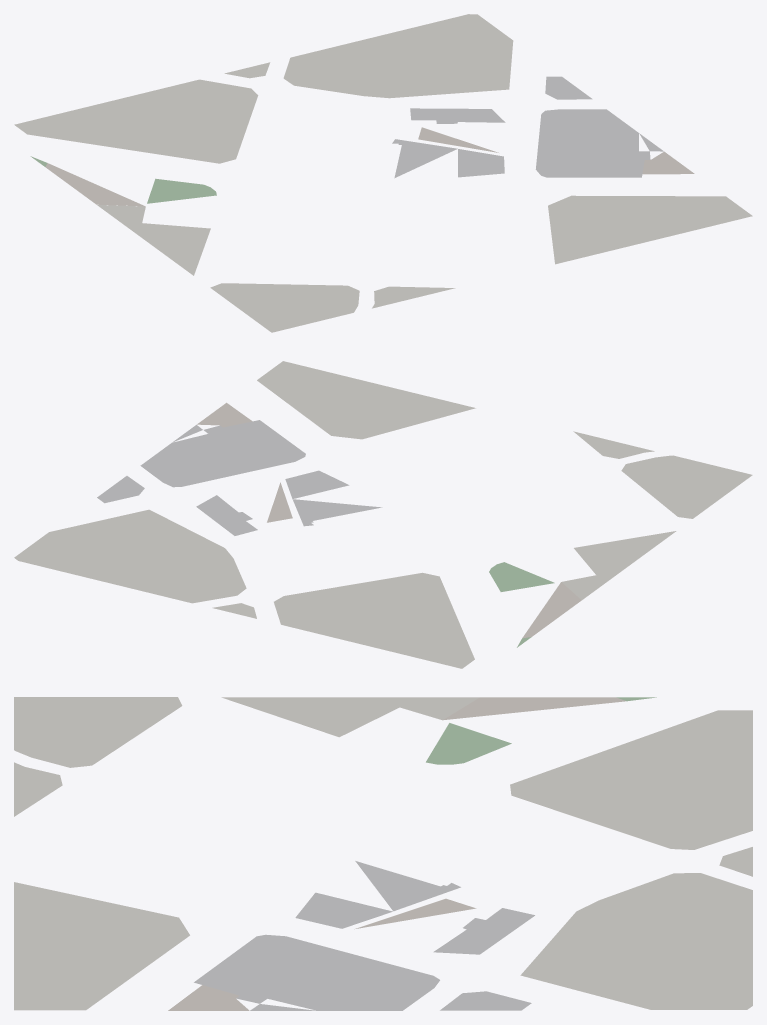
The model's file is 107_114_mid.glb.
The picture shows the model from 3 angles, top to bottom: view 1: azimuth 30°, elevation 25°; view 2: azimuth 150°, elevation 25°; view 3: azimuth 270°, elevation 25°; orthographic projection. The views are drawn at different scales.
Bounding box in the file's own units: 500 × 1.03 × 500.
